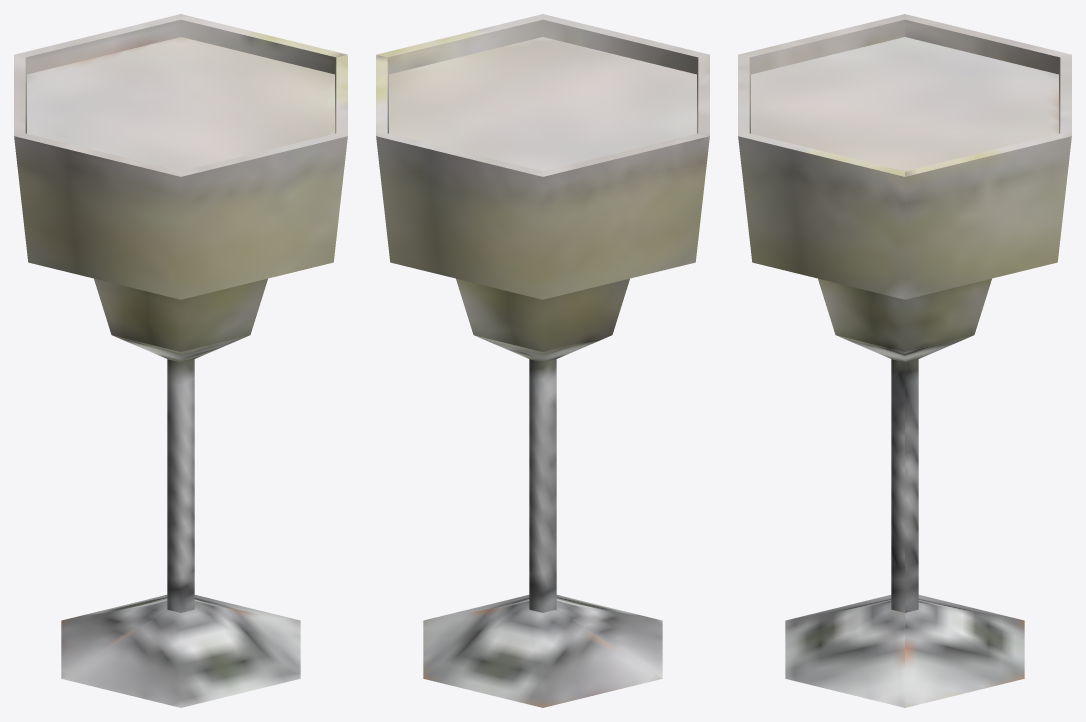
Rendered from DrinkV9.fbx.
The picture shows the model from 3 angles, left to right: view 1: azimuth 30°, elevation 25°; view 2: azimuth 150°, elevation 25°; view 3: azimuth 270°, elevation 25°; orthographic projection.
Parts seen in each view (by area): view 1: Cocktails.013; view 2: Cocktails.013; view 3: Cocktails.013.
Boxes of the visible parts, box(x1,y1,x2,y2) form: Cocktails.013: box(14, 14, 347, 707); Cocktails.013: box(376, 14, 709, 707); Cocktails.013: box(738, 14, 1071, 707).
Bounding box in the file's own units: 0.163 × 0.2585 × 0.1412.
